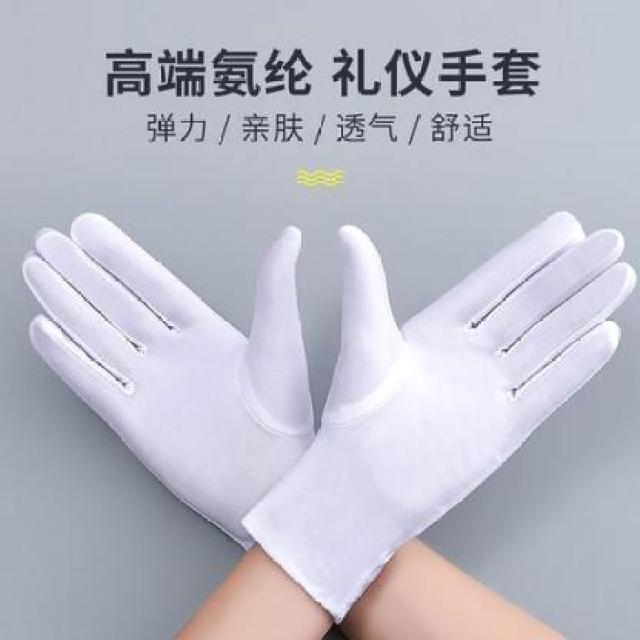hand_glove: (316, 206, 639, 543), (18, 212, 314, 530)
